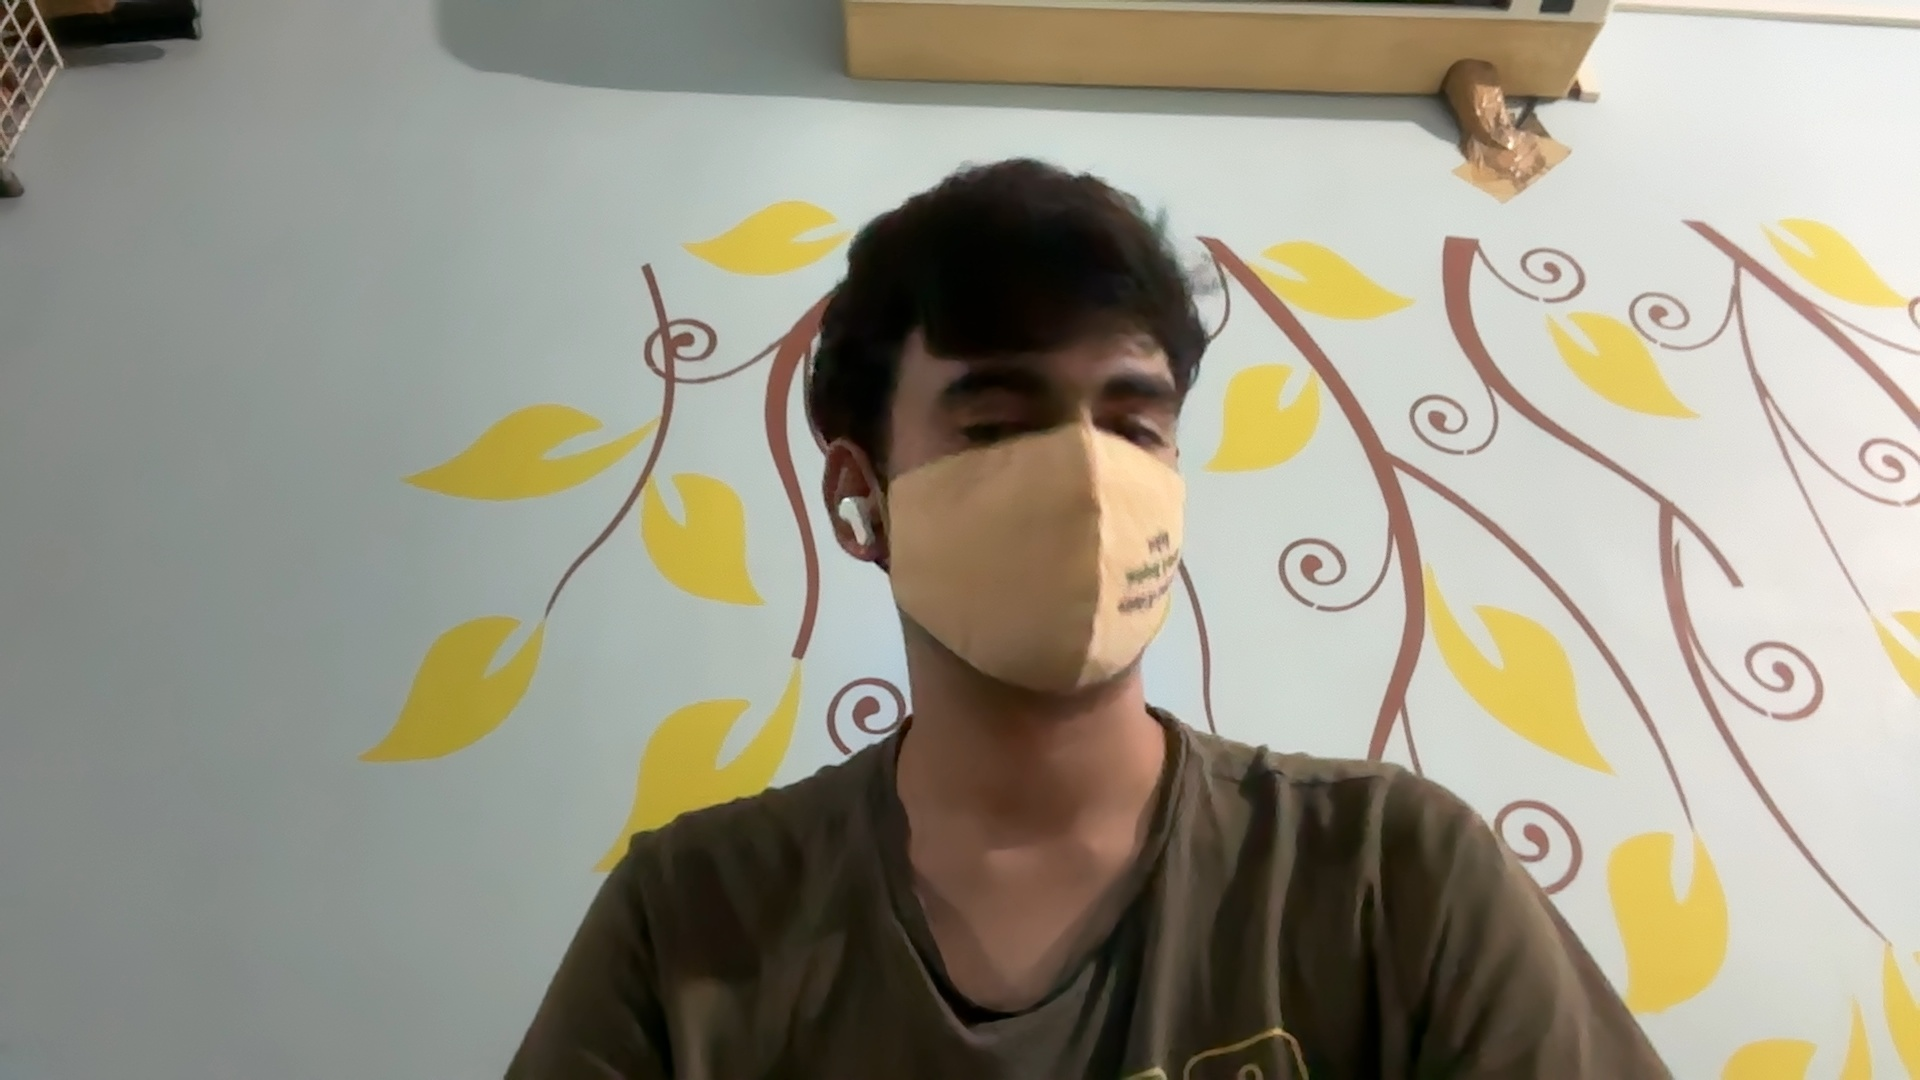Mask: (878, 434, 1189, 695)
